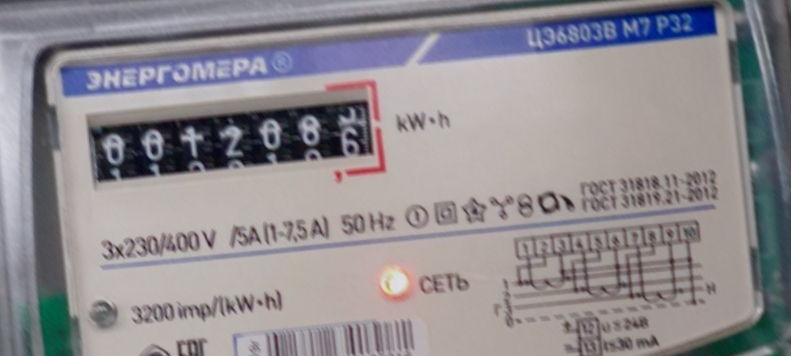0: (257, 113, 286, 151), (141, 123, 168, 162), (103, 128, 127, 167)
1: (181, 121, 203, 160)
2: (219, 121, 249, 158)
6: (337, 120, 363, 158)
8: (296, 110, 323, 148)
screen: (75, 67, 398, 220)
